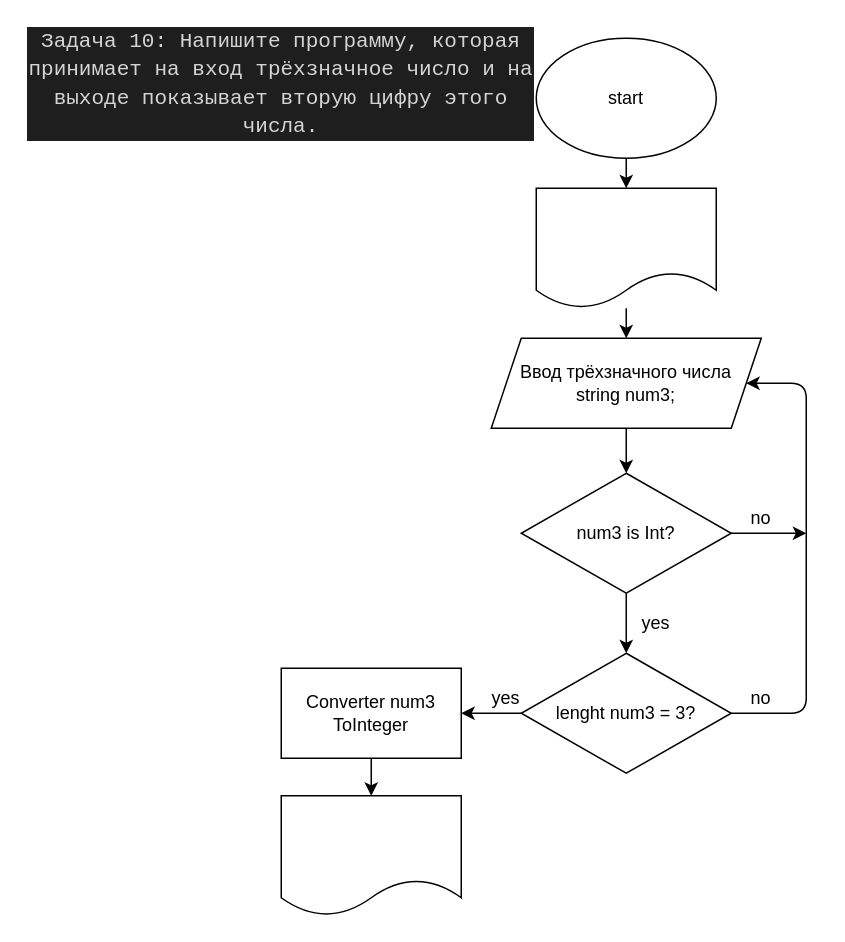
This 845x942 diagram has some shape labels left out. Each missing label, with the centre of its shape:
Введите целое трёхзначное число:: [625,247]
вывод num3[1]: [370,855]
